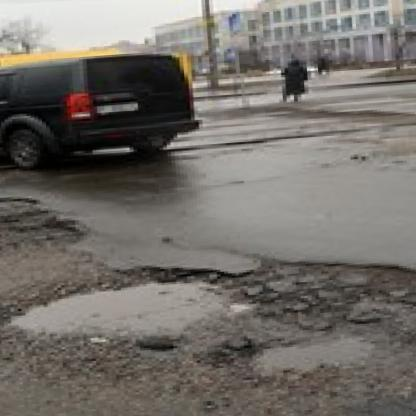pothole: (16, 273, 239, 352), (0, 195, 41, 220)
